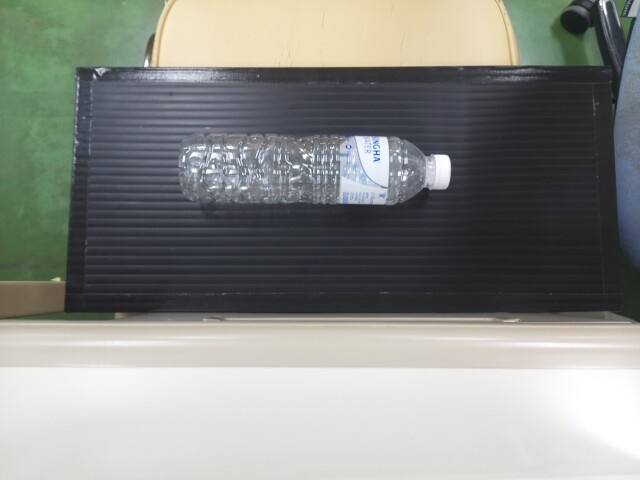plastic_bottle: (174, 127, 451, 211)
